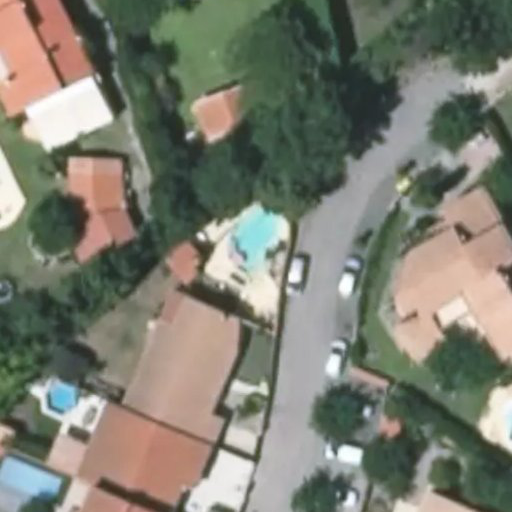pool: (229, 208, 282, 263), (47, 381, 78, 416)
